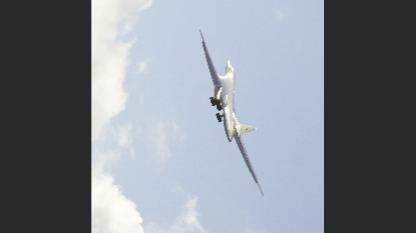Su34: (199, 25, 264, 196)
